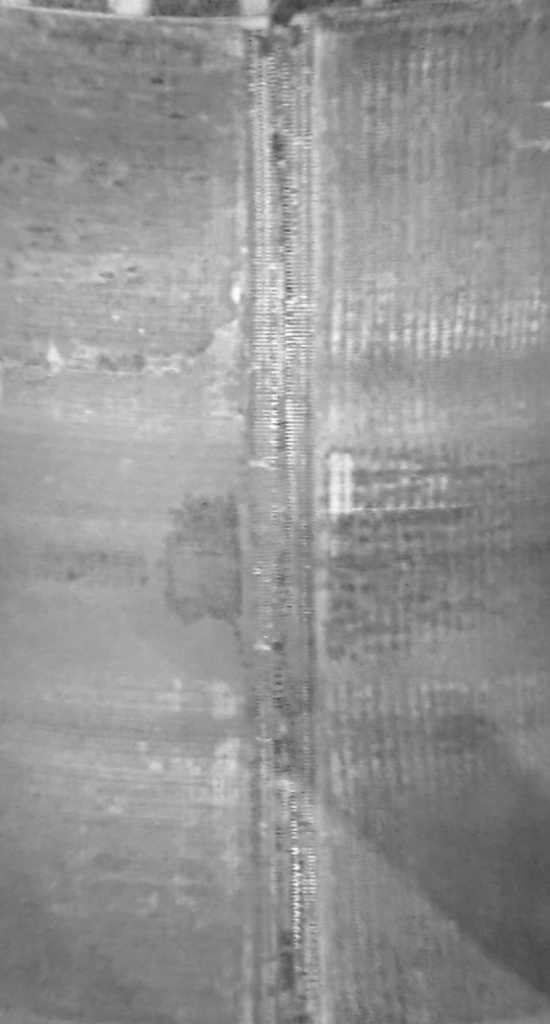splice: (231, 1, 334, 1024)
